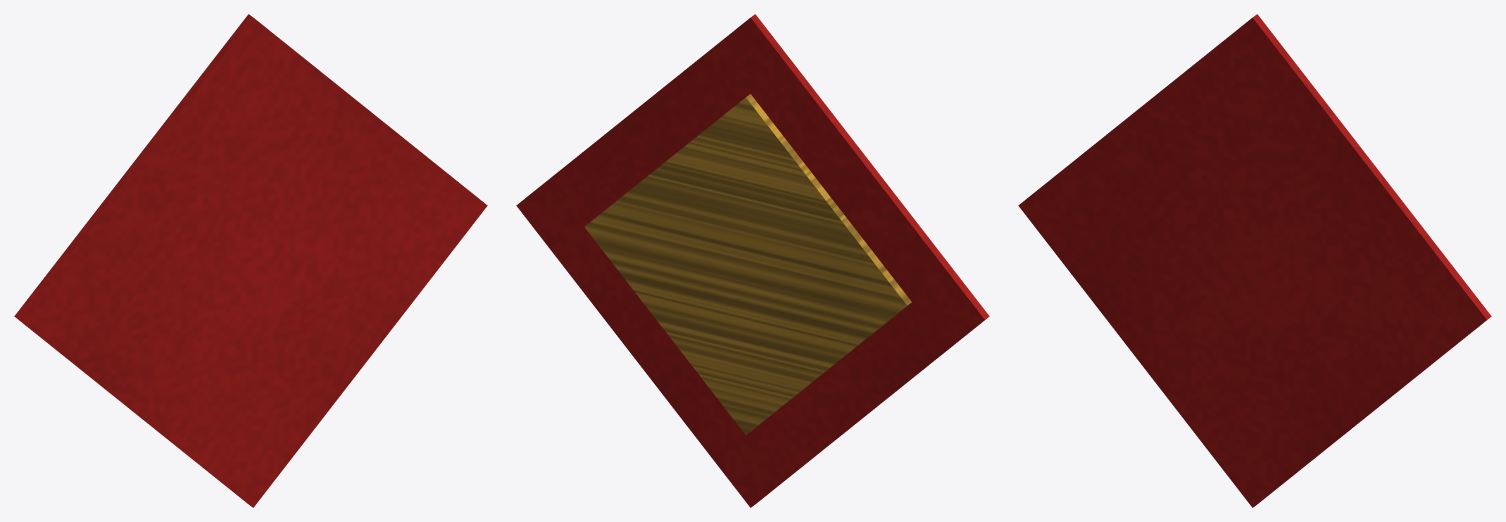
File: spring_sheet.fbx
3 renders of one model, left to right at view 1: azimuth 30°, elevation 25°; view 2: azimuth 150°, elevation 25°; view 3: azimuth 330°, elevation 25°, orthographic.
Visible parts, largest first — view 1: spring_sheet; view 2: spring_sheet; view 3: spring_sheet.
Part boxes in pixels (box(x1,y1,x2,y2)): spring_sheet: box(14, 14, 487, 507); spring_sheet: box(516, 14, 989, 507); spring_sheet: box(1018, 14, 1491, 507).
Bounding box in the file's own units: 45 × 45 × 1.6.
